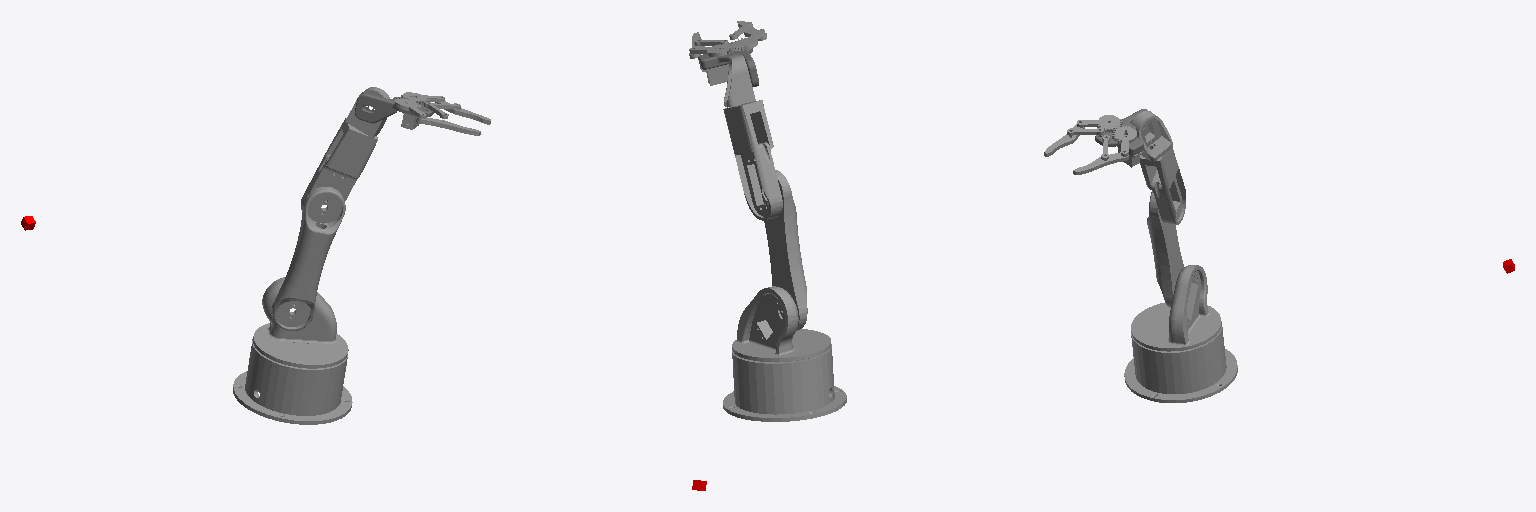
robot.urdf — fanipulator:
<?xml version="1.0" encoding="utf-8"?>
<!-- This URDF was automatically created by SolidWorks to URDF Exporter! Originally created by [author] ([email redacted]) 
     Commit Version: 1.6.0-4-g7f85cfe  Build Version: 1.6.7995.38578
     For more information, please see http://wiki.ros.org/sw_urdf_exporter -->
<robot
  name="fanipulator">
<link name="link_dummy">
    <visual>
        <origin xyz="-0.014790 0.274300 0.079552" rpy="-0.125191 0.448281 -1.594174" />
        <geometry>
            <box size="0.01 0.01 0.01" /> <!-- Use a small box for visualization -->
        </geometry>
        <material name="">
            <color rgba="1 0 0 1" /> <!-- Red color for visibility -->
        </material>
    </visual>
</link>

<!-- Add a Joint to Connect the Dummy Link to the Base Link -->
<joint name="joint_base_dummy" type="fixed">
    <origin xyz="0 0 0.1" rpy="0.52 0.3 0" /> <!-- Adjust this position as necessary -->
    <parent link="link_dummy" />
    <child link="base_link" />
</joint>

  <link
    name="base_link">
    <inertial>
      <origin
        xyz="0.11016 -0.089434 -0.00055978"
        rpy="0 0 0" />
      <mass
        value="0.094595" />
      <inertia
        ixx="0.00013307"
        ixy="-8.0888E-06"
        ixz="-1.5527E-05"
        iyy="0.00014557"
        iyz="2.4764E-05"
        izz="0.00019069" />
    </inertial>
    <visual>
      <origin
        xyz="0 0 0"
        rpy="0 0 0" />
      <geometry>
        <mesh
          filename="package://fanipulator/meshes/base_link.STL" />
      </geometry>
      <material
        name="">
        <color
          rgba="0.62745 0.62745 0.62745 1" />
      </material>
    </visual>
    <collision>
      <origin
        xyz="0 0 0"
        rpy="0 0 0" />
      <geometry>
        <mesh
          filename="package://fanipulator/meshes/base_link.STL" />
      </geometry>
    </collision>
  </link>
  <link
    name="link_waist">
    <inertial>
      <origin
        xyz="0.00749460466607962 0.0193833742805122 -0.00142908295604846"
        rpy="0 0 0" />
      <mass
        value="0.073648017160832" />
      <inertia
        ixx="6.79533649959477E-05"
        ixy="-6.43007186079431E-06"
        ixz="2.54253113515054E-07"
        iyy="6.01331618037357E-05"
        iyz="6.73058268215776E-06"
        izz="5.02824951550106E-05" />
    </inertial>
    <visual>
      <origin
        xyz="0 0 0"
        rpy="0 0 0" />
      <geometry>
        <mesh
          filename="package://fanipulator/meshes/link_waist.STL" />
      </geometry>
      <material
        name="">
        <color
          rgba="0.627450980392157 0.627450980392157 0.627450980392157 1" />
      </material>
    </visual>
    <collision>
      <origin
        xyz="0 0 0"
        rpy="0 0 0" />
      <geometry>
        <mesh
          filename="package://fanipulator/meshes/link_waist.STL" />
      </geometry>
    </collision>
  </link>
  <joint
    name="joint_base_waist"
    type="continuous">
    <origin
      xyz="0.10462 -0.074718 0.031168"
      rpy="1.2426 0.33656 1.1988" />
    <parent
      link="base_link" />
    <child
      link="link_waist" />
    <axis
      xyz="0 1 0" />
    <limit
      lower="0"
      upper="0"
      effort="0"
      velocity="0" />
  </joint>
  <link
    name="link_arm01">
    <inertial>
      <origin
        xyz="7.28828564999784E-08 0.0599999721913967 0.0132291412086"
        rpy="0 0 0" />
      <mass
        value="0.064057051230774" />
      <inertia
        ixx="0.000103753554172636"
        ixy="2.72460845129312E-10"
        ixz="1.08923157262337E-10"
        iyy="9.22848829918709E-06"
        iyz="-7.47048066086611E-11"
        izz="0.000108623418422058" />
    </inertial>
    <visual>
      <origin
        xyz="0 0 0"
        rpy="0 0 0" />
      <geometry>
        <mesh
          filename="package://fanipulator/meshes/link_arm01.STL" />
      </geometry>
      <material
        name="">
        <color
          rgba="0.627450980392157 0.627450980392157 0.627450980392157 1" />
      </material>
    </visual>
    <collision>
      <origin
        xyz="0 0 0"
        rpy="0 0 0" />
      <geometry>
        <mesh
          filename="package://fanipulator/meshes/link_arm01.STL" />
      </geometry>
    </collision>
  </link>
  <joint
    name="joint_waist_arm01"
    type="revolute">
    <origin
      xyz="-0.0182 0.04028 -0.01391"
      rpy="1.5708 1.4405 1.5708" />
    <parent
      link="link_waist" />
    <child
      link="link_arm01" />
    <axis
      xyz="0 0 1" />
    <limit
      lower="-.1"
      upper=".1"
      effort="0"
      velocity="0" />
  </joint>
  <link
    name="link_arm02">
    <inertial>
      <origin
        xyz="0.00696065017005656 -3.16343195396473E-05 0.00571995513508529"
        rpy="0 0 0" />
      <mass
        value="0.0470979731232057" />
      <inertia
        ixx="8.72264742991636E-06"
        ixy="6.96797055522618E-08"
        ixz="4.03695547935357E-07"
        iyy="5.14011864804492E-05"
        iyz="-1.86701892798509E-10"
        izz="5.46647133889416E-05" />
    </inertial>
    <visual>
      <origin
        xyz="0 0 0"
        rpy="0 0 0" />
      <geometry>
        <mesh
          filename="package://fanipulator/meshes/link_arm02.STL" />
      </geometry>
      <material
        name="">
        <color
          rgba="0.627450980392157 0.627450980392157 0.627450980392157 1" />
      </material>
    </visual>
    <collision>
      <origin
        xyz="0 0 0"
        rpy="0 0 0" />
      <geometry>
        <mesh
          filename="package://fanipulator/meshes/link_arm02.STL" />
      </geometry>
    </collision>
  </link>
  <joint
    name="joint_arm01_arm02"
    type="revolute">
    <origin
      xyz="-0.0064428 0.15415 0.0222"
      rpy="0 0 1.7573" />
    <parent
      link="link_arm01" />
    <child
      link="link_arm02" />
    <axis
      xyz="0 0 1" />
    <limit
      lower="-.1"
      upper=".1"
      effort="0"
      velocity="0" />
  </joint>
  <link
    name="link_arm03">
    <inertial>
      <origin
        xyz="4.59621324966769E-05 0.0178079248857709 -0.00527093987895778"
        rpy="0 0 0" />
      <mass
        value="0.0164703704574985" />
      <inertia
        ixx="3.8998112272154E-06"
        ixy="1.15515572844753E-08"
        ixz="-3.9843285770846E-09"
        iyy="2.60896890580714E-06"
        iyz="5.77154659865445E-07"
        izz="5.00777358212754E-06" />
    </inertial>
    <visual>
      <origin
        xyz="0 0 0"
        rpy="0 0 0" />
      <geometry>
        <mesh
          filename="package://fanipulator/meshes/link_arm03.STL" />
      </geometry>
      <material
        name="">
        <color
          rgba="0.627450980392157 0.627450980392157 0.627450980392157 1" />
      </material>
    </visual>
    <collision>
      <origin
        xyz="0 0 0"
        rpy="0 0 0" />
      <geometry>
        <mesh
          filename="package://fanipulator/meshes/link_arm03.STL" />
      </geometry>
    </collision>
  </link>
  <joint
    name="joint_arm02_arm03"
    type="continuous">
    <origin
      xyz="0.0562 0.00092164 0.0079145"
      rpy="0 -0.50397 -1.5708" />
    <parent
      link="link_arm02" />
    <child
      link="link_arm03" />
    <axis
      xyz="0 -1 0" />
    <limit
      lower="0"
      upper="0"
      effort="0"
      velocity="0" />
  </joint>
  <link
    name="link_wrist">
    <inertial>
      <origin
        xyz="-0.0118424048771172 -0.00255965818179493 -0.0155721370345793"
        rpy="0 0 0" />
      <mass
        value="0.0160406157199611" />
      <inertia
        ixx="7.25768021095932E-06"
        ixy="-4.04931922521688E-07"
        ixz="-1.7859460511265E-06"
        iyy="9.0081643034319E-06"
        iyz="-1.34077517237122E-06"
        izz="3.30098488813288E-06" />
    </inertial>
    <visual>
      <origin
        xyz="0 0 0"
        rpy="0 0 0" />
      <geometry>
        <mesh
          filename="package://fanipulator/meshes/link_wrist.STL" />
      </geometry>
      <material
        name="">
        <color
          rgba="0.498039215686275 0.498039215686275 0.498039215686275 1" />
      </material>
    </visual>
    <collision>
      <origin
        xyz="0 0 0"
        rpy="0 0 0" />
      <geometry>
        <mesh
          filename="package://fanipulator/meshes/link_wrist.STL" />
      </geometry>
    </collision>
  </link>
  <joint
    name="joint_arm03_wrist"
    type="revolute">
    <origin
      xyz="-0.036654 0.047435 0.0015"
      rpy="2.6591 -1.5708 -2.9275" />
    <parent
      link="link_arm03" />
    <child
      link="link_wrist" />
    <axis
      xyz="-1 0 0" />
    <limit
      lower="-.1"
      upper=".1"
      effort="0"
      velocity="0" />
  </joint>
  <link
    name="link_servo">
    <inertial>
      <origin
        xyz="-0.000421588407400978 2.77555756156289E-17 0.0125976635534302"
        rpy="0 0 0" />
      <mass
        value="0.00717741212346476" />
      <inertia
        ixx="4.65659768608824E-07"
        ixy="2.77932685817817E-22"
        ixz="3.64468103975E-08"
        iyy="7.15747199073412E-07"
        iyz="-4.36751363427999E-22"
        izz="4.29370258276757E-07" />
    </inertial>
    <visual>
      <origin
        xyz="0 0 0"
        rpy="0 0 0" />
      <geometry>
        <mesh
          filename="package://fanipulator/meshes/link_servo.STL" />
      </geometry>
      <material
        name="">
        <color
          rgba="0.627450980392157 0.627450980392157 0.627450980392157 1" />
      </material>
    </visual>
    <collision>
      <origin
        xyz="0 0 0"
        rpy="0 0 0" />
      <geometry>
        <mesh
          filename="package://fanipulator/meshes/link_servo.STL" />
      </geometry>
    </collision>
  </link>
  <joint
    name="joint_wrist_servo_fixed"
    type="fixed">
    <origin
      xyz="0.007 -0.02375 -0.0025"
      rpy="-1.5708 0 0" />
    <parent
      link="link_wrist" />
    <child
      link="link_servo" />
    <axis
      xyz="0 0 0" />
  </joint>
  <link
    name="link_motor_gear">
    <inertial>
      <origin
        xyz="0.00522763135404872 -0.00254163211906777 0.00274999999999997"
        rpy="0 0 0" />
      <mass
        value="0.0025818082333029" />
      <inertia
        ixx="9.00151478960088E-08"
        ixy="8.33723130309126E-09"
        ixz="8.89942941530489E-22"
        iyy="3.68688286362482E-07"
        iyz="-2.11758236813575E-22"
        izz="4.51818612303016E-07" />
    </inertial>
    <visual>
      <origin
        xyz="0 0 0"
        rpy="0 0 0" />
      <geometry>
        <mesh
          filename="package://fanipulator/meshes/link_motor_gear.STL" />
      </geometry>
      <material
        name="">
        <color
          rgba="0.627450980392157 0.627450980392157 0.627450980392157 1" />
      </material>
    </visual>
    <collision>
      <origin
        xyz="0 0 0"
        rpy="0 0 0" />
      <geometry>
        <mesh
          filename="package://fanipulator/meshes/link_motor_gear.STL" />
      </geometry>
    </collision>
  </link>
  <joint
    name="joint_wrist_motor_gear"
    type="revolute">
    <origin
      xyz="0 0.01 0"
      rpy="1.5708 -0.7531 0" />
    <parent
      link="link_wrist" />
    <child
      link="link_motor_gear" />
    <axis
      xyz="0 0 -1" />
    <limit
      lower="-.1"
      upper=".1"
      effort="0"
      velocity="0" />
  </joint>
  <link
    name="link_motor_finger">
    <inertial>
      <origin
        xyz="0.0255261424966086 0.0022499970897259 -0.00336704858478218"
        rpy="0 0 0" />
      <mass
        value="0.00255464599773171" />
      <inertia
        ixx="6.09414708673108E-08"
        ixy="-2.13870657667333E-13"
        ixz="1.5526788471596E-07"
        iyy="8.10461051558438E-07"
        iyz="1.87298236638026E-14"
        izz="7.58141645116664E-07" />
    </inertial>
    <visual>
      <origin
        xyz="0 0 0"
        rpy="0 0 0" />
      <geometry>
        <mesh
          filename="package://fanipulator/meshes/link_motor_finger.STL" />
      </geometry>
      <material
        name="">
        <color
          rgba="0.627450980392157 0.627450980392157 0.627450980392157 1" />
      </material>
    </visual>
    <collision>
      <origin
        xyz="0 0 0"
        rpy="0 0 0" />
      <geometry>
        <mesh
          filename="package://fanipulator/meshes/link_motor_finger.STL" />
      </geometry>
    </collision>
  </link>
  <joint
    name="joint_motor_gear_finger"
    type="revolute">
    <origin
      xyz="0.030426 -0.0031233 0.0095"
      rpy="-1.5708 0 1.2261" />
    <parent
      link="link_motor_gear" />
    <child
      link="link_motor_finger" />
    <axis
      xyz="0 -1 0" />
    <limit
      lower="-.1"
      upper=".1"
      effort="0"
      velocity="0" />
  </joint>
  <link
    name="link_non_motor_gear">
    <inertial>
      <origin
        xyz="0.0053917110914827 0.000565002451448526 0"
        rpy="0 0 0" />
      <mass
        value="0.00265818035071167" />
      <inertia
        ixx="9.02347898780716E-08"
        ixy="8.09769450575796E-09"
        ixz="3.40798412371847E-22"
        iyy="3.72028786461282E-07"
        iyz="-3.68095372586097E-23"
        izz="4.55175095404122E-07" />
    </inertial>
    <visual>
      <origin
        xyz="0 0 0"
        rpy="0 0 0" />
      <geometry>
        <mesh
          filename="package://fanipulator/meshes/link_non_motor_gear.STL" />
      </geometry>
      <material
        name="">
        <color
          rgba="0.627450980392157 0.627450980392157 0.627450980392157 1" />
      </material>
    </visual>
    <collision>
      <origin
        xyz="0 0 0"
        rpy="0 0 0" />
      <geometry>
        <mesh
          filename="package://fanipulator/meshes/link_non_motor_gear.STL" />
      </geometry>
    </collision>
  </link>
  <joint
    name="joint_wrist_non_motor_gear"
    type="revolute">
    <origin
      xyz="-0.025 0.00725 -0.0025"
      rpy="1.5708 -0.8747 3.1416" />
    <parent
      link="link_wrist" />
    <child
      link="link_non_motor_gear" />
    <axis
      xyz="0 0 1" />
    <limit
      lower="-.1"
      upper=".1"
      effort="0"
      velocity="0" />
  </joint>
  <link
    name="link_non_motor_finger">
    <inertial>
      <origin
        xyz="0.0255261444106173 0.00224999824611849 -0.0033670495028804"
        rpy="0 0 0" />
      <mass
        value="0.00255464579631569" />
      <inertia
        ixx="6.0941341681675E-08"
        ixy="-2.49807542755823E-13"
        ixz="1.55267849729155E-07"
        iyy="8.10460904924078E-07"
        iyz="1.59058771746059E-15"
        izz="7.58141627107247E-07" />
    </inertial>
    <visual>
      <origin
        xyz="0 0 0"
        rpy="0 0 0" />
      <geometry>
        <mesh
          filename="package://fanipulator/meshes/link_non_motor_finger.STL" />
      </geometry>
      <material
        name="">
        <color
          rgba="0.627450980392157 0.627450980392157 0.627450980392157 1" />
      </material>
    </visual>
    <collision>
      <origin
        xyz="0 0 0"
        rpy="0 0 0" />
      <geometry>
        <mesh
          filename="package://fanipulator/meshes/link_non_motor_finger.STL" />
      </geometry>
    </collision>
  </link>
  <joint
    name="joint_non_motor_gear_finger"
    type="revolute">
    <origin
      xyz="0.03075 0 -0.00225"
      rpy="-1.5708 0 1.0751" />
    <parent
      link="link_non_motor_gear" />
    <child
      link="link_non_motor_finger" />
    <axis
      xyz="0 -1 0" />
    <limit
      lower="-.1"
      upper=".1"
      effort="0"
      velocity="0" />
  </joint>
  <link
    name="link_motor_support">
    <inertial>
      <origin
        xyz="0.0155 0.00200000000000006 0"
        rpy="0 0 0" />
      <mass
        value="0.00079876241318469" />
      <inertia
        ixx="3.63250422363009E-09"
        ixy="1.15057268914432E-22"
        ixz="-9.43704834585034E-23"
        iyy="1.04424225659603E-07"
        iyz="-9.92616735063633E-24"
        izz="1.02921754537799E-07" />
    </inertial>
    <visual>
      <origin
        xyz="0 0 0"
        rpy="0 0 0" />
      <geometry>
        <mesh
          filename="package://fanipulator/meshes/link_motor_support.STL" />
      </geometry>
      <material
        name="">
        <color
          rgba="0.627450980392157 0.627450980392157 0.627450980392157 1" />
      </material>
    </visual>
    <collision>
      <origin
        xyz="0 0 0"
        rpy="0 0 0" />
      <geometry>
        <mesh
          filename="package://fanipulator/meshes/link_motor_support.STL" />
      </geometry>
    </collision>
  </link>
  <joint
    name="joint_wrist_motor_support"
    type="revolute">
    <origin
      xyz="-0.007 0.00525 0.0175"
      rpy="0 -0.75398 0" />
    <parent
      link="link_wrist" />
    <child
      link="link_motor_support" />
    <axis
      xyz="0 1 0" />
    <limit
      lower="-.1"
      upper=".1"
      effort="0"
      velocity="0" />
  </joint>
  <link
    name="link_non_motor_support">
    <inertial>
      <origin
        xyz="0.0155 0.00200000000000006 2.77555756156289E-17"
        rpy="0 0 0" />
      <mass
        value="0.000798762413184691" />
      <inertia
        ixx="3.6325042236301E-09"
        ixy="1.19527598513912E-22"
        ixz="-4.64125871824675E-23"
        iyy="1.04424225659603E-07"
        iyz="0"
        izz="1.02921754537799E-07" />
    </inertial>
    <visual>
      <origin
        xyz="0 0 0"
        rpy="0 0 0" />
      <geometry>
        <mesh
          filename="package://fanipulator/meshes/link_non_motor_support.STL" />
      </geometry>
      <material
        name="">
        <color
          rgba="0.627450980392157 0.627450980392157 0.627450980392157 1" />
      </material>
    </visual>
    <collision>
      <origin
        xyz="0 0 0"
        rpy="0 0 0" />
      <geometry>
        <mesh
          filename="package://fanipulator/meshes/link_non_motor_support.STL" />
      </geometry>
    </collision>
  </link>
  <joint
    name="joint_wrist_non_motor_support"
    type="revolute">
    <origin
      xyz="-0.017 0.00925000000000003 0.0175"
      rpy="0 4.0288227234695 0" />
    <parent
      link="link_wrist" />
    <child
      link="link_non_motor_support" />
    <axis
      xyz="0 1 0" />
    <limit
      lower="-.1"
      upper=".1"
      effort="0"
      velocity="0" />
  </joint>
</robot>

--- What the picture shows (computed from the rendered views, not written in the file) ---
Views: 3 orthographic renders of the robot side by side, from view 1: azimuth 30°, elevation 25°; view 2: azimuth 150°, elevation 25°; view 3: azimuth 270°, elevation 25°.
Robot: fanipulator — 14 links, 13 joints (9 revolute, 2 continuous, 2 fixed); root link link_dummy; default pose: every joint at zero.
Visible links, largest first — view 1: base_link, link_arm01, link_waist, link_arm02, link_wrist, link_arm03; view 2: base_link, link_waist, link_arm02, link_arm01, link_arm03, link_wrist; view 3: base_link, link_waist, link_arm02, link_arm01, link_arm03, link_wrist.
Boxes of the visible links, x1,y1,x2,y2 form: base_link: (233, 339, 352, 424); link_arm01: (272, 187, 345, 330); link_waist: (253, 277, 348, 368); link_arm02: (301, 118, 377, 212); link_wrist: (355, 93, 433, 123); link_arm03: (345, 87, 389, 137); base_link: (723, 344, 846, 421); link_waist: (732, 286, 830, 361); link_arm02: (723, 100, 782, 220); link_arm01: (764, 170, 807, 330); link_arm03: (724, 55, 755, 107); link_wrist: (698, 42, 758, 86); base_link: (1124, 321, 1237, 402); link_waist: (1131, 265, 1221, 351); link_arm02: (1140, 147, 1185, 224); link_arm01: (1147, 191, 1183, 307); link_arm03: (1131, 110, 1172, 161); link_wrist: (1095, 109, 1146, 155).
Bounding box of the posed robot: 0.2779 × 0.5022 × 0.3499 m (x, y, z).
Meshes: 13 distinct files referenced, 13 mesh visuals loaded (13 binary STL).
